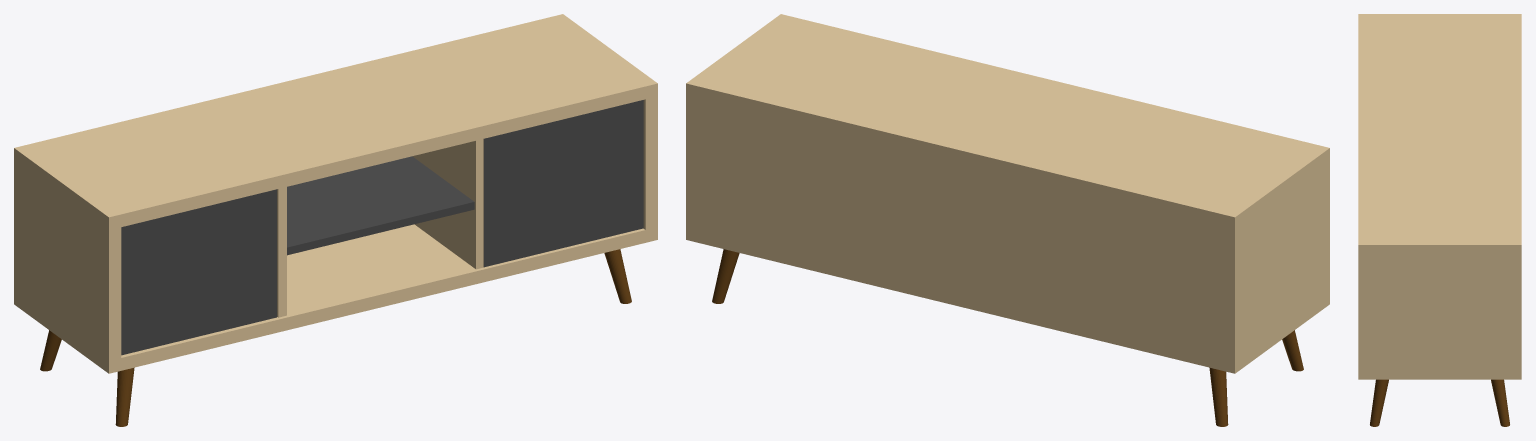
File: TV_Stand_1.fbx
3 views of the same model, side by side, from view 1: azimuth 30°, elevation 25°; view 2: azimuth 150°, elevation 25°; view 3: azimuth 270°, elevation 25° (orthographic). The views are drawn at different scales.
Parts seen in each view (by area): view 1: TV_Stand1; view 2: TV_Stand1; view 3: TV_Stand1.
Part boxes in pixels (box(x1,y1,x2,y2)): TV_Stand1: box(14, 14, 657, 426); TV_Stand1: box(686, 14, 1329, 426); TV_Stand1: box(1358, 14, 1521, 426).
Bounding box in the file's own units: 513 × 196 × 154.
